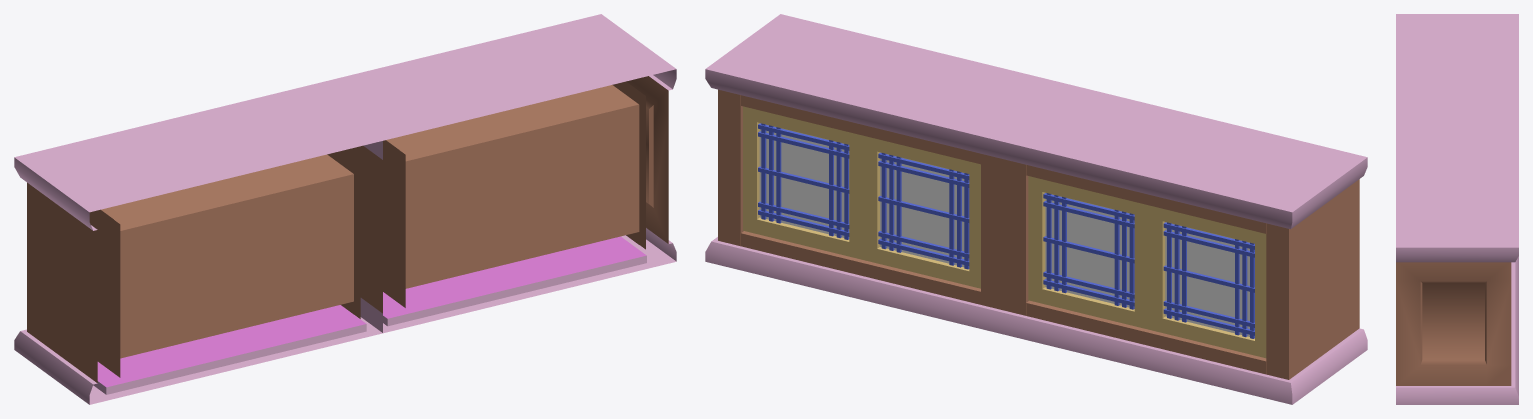
File: Cupboard_Fridge.fbx
3 renders of one model, left to right at view 1: azimuth 30°, elevation 25°; view 2: azimuth 150°, elevation 25°; view 3: azimuth 270°, elevation 25°, orthographic. The views are drawn at different scales.
Visible parts, largest first — view 1: Cupboard_Fridge; view 2: Cupboard_Fridge; view 3: Cupboard_Fridge.
Boxes of the visible parts, left/top/right/bottom form: Cupboard_Fridge: left=14, top=14, right=676, bottom=404; Cupboard_Fridge: left=705, top=14, right=1367, bottom=404; Cupboard_Fridge: left=1396, top=14, right=1518, bottom=404.
Size of the model in its own units: 144 by 45.13 by 32.
